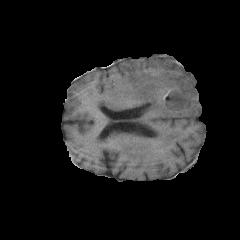glioma: (98, 60, 201, 143)
